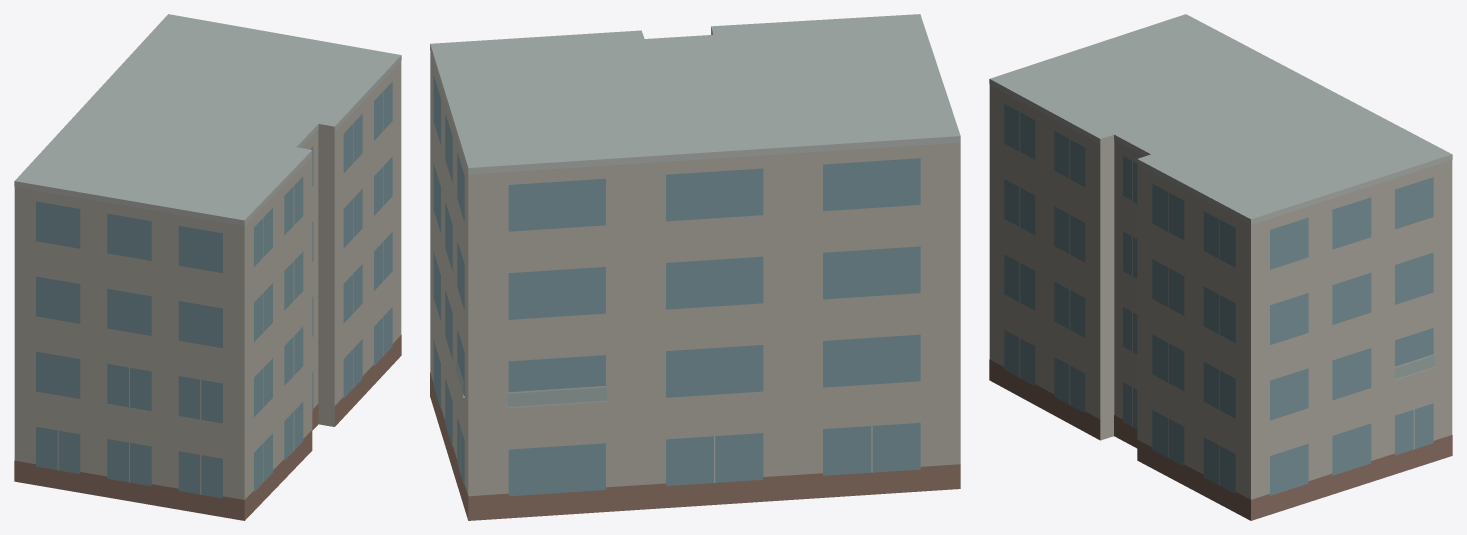
Rendered from survey-upis-32729188.glb.
3 views of the same model, side by side, from view 1: azimuth 30°, elevation 25°; view 2: azimuth 150°, elevation 25°; view 3: azimuth 270°, elevation 25° (orthographic). The views are drawn at different scales.
Parts seen in each view (by area): view 1: survey-upis-32729188.tmp; view 2: survey-upis-32729188.tmp; view 3: survey-upis-32729188.tmp.
Boxes of the visible parts, box(x1,y1,x2,y2) form: survey-upis-32729188.tmp: box(14, 14, 401, 520); survey-upis-32729188.tmp: box(430, 14, 960, 520); survey-upis-32729188.tmp: box(989, 14, 1452, 520).
Bounding box in the file's own units: 19.29 × 13.2 × 18.37.
